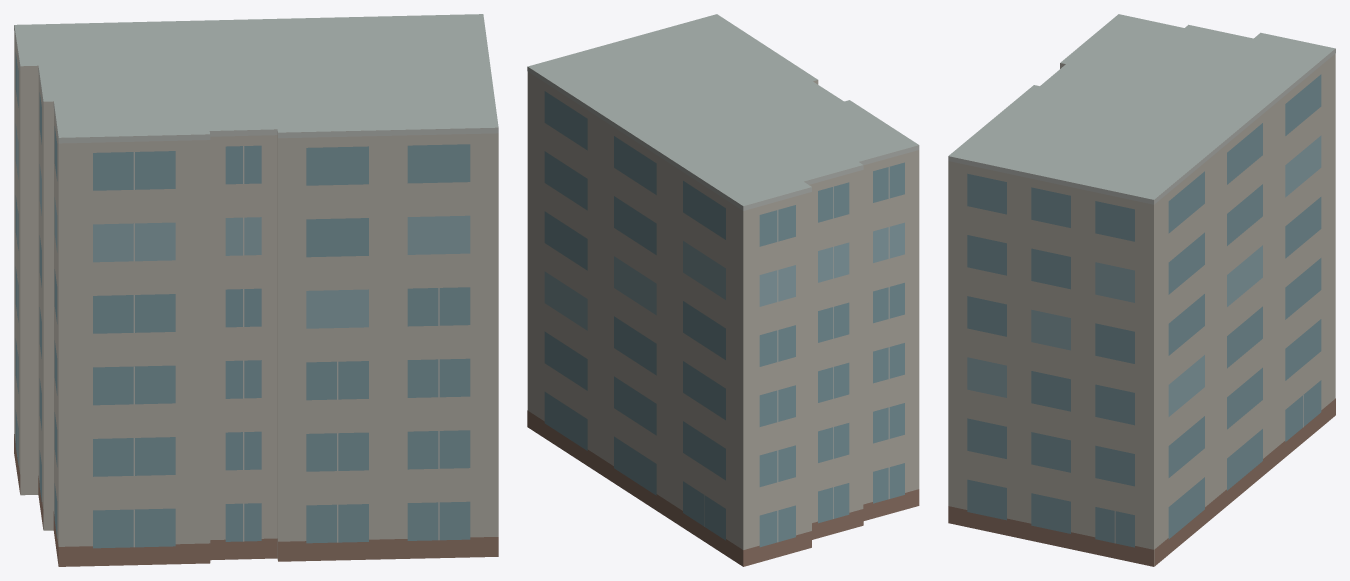
The model's file is survey-upis-32693515.glb.
3 renders of one model, left to right at view 1: azimuth 30°, elevation 25°; view 2: azimuth 150°, elevation 25°; view 3: azimuth 270°, elevation 25°, orthographic. The views are drawn at different scales.
Visible parts, largest first — view 1: survey-upis-32693515.tmp; view 2: survey-upis-32693515.tmp; view 3: survey-upis-32693515.tmp.
Boxes of the visible parts, x1=… form: survey-upis-32693515.tmp: x1=14, y1=14, x2=498, y2=566; survey-upis-32693515.tmp: x1=527, y1=14, x2=919, y2=566; survey-upis-32693515.tmp: x1=948, y1=14, x2=1335, y2=566.
Size of the model in its own units: 19.89 by 18.3 by 17.52.
